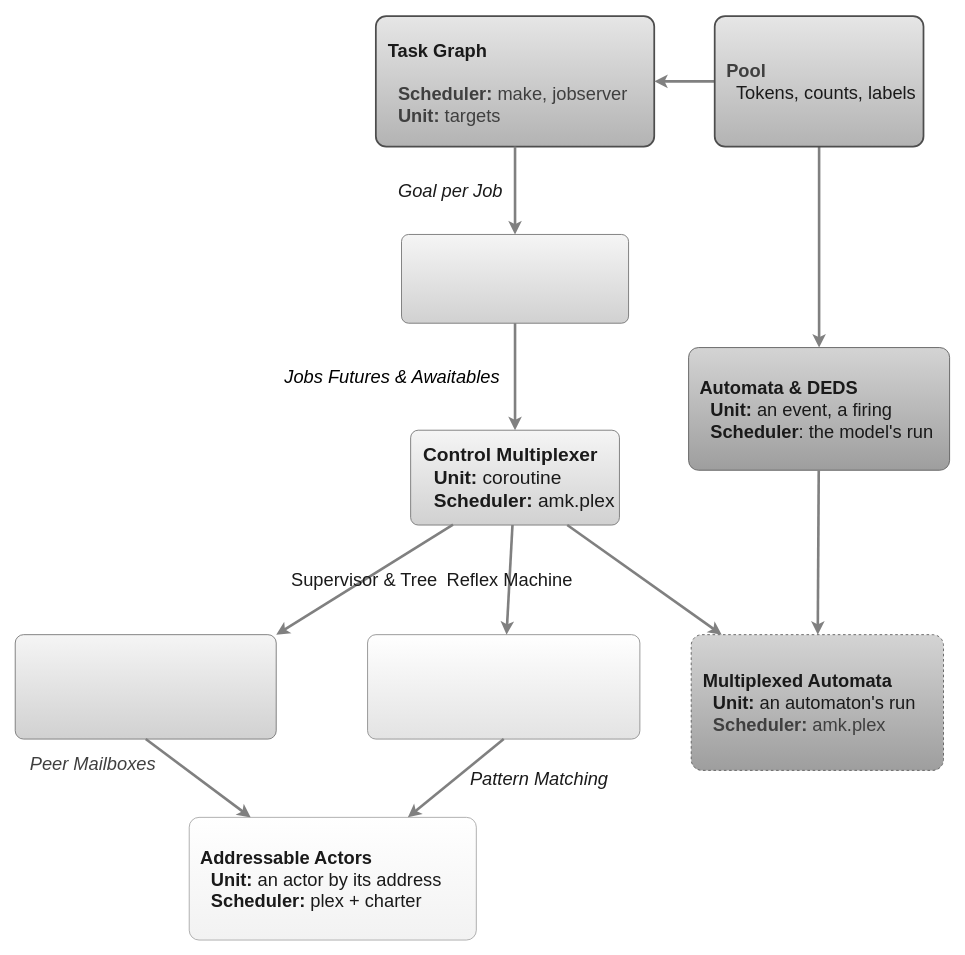
Image size: 965x955. Some labels were removed from this diagram. Each missing label, with the centre of its shape:
"Actor Model Unit: actor + mailbox Scheduler: plex + charter" goes at [145,686].
"Multiprocessing Unit: Zygote fork Scheduler: OS kernel" goes at [515,278].
"Tuplespace Reactor Unit: tuple or row Scheduler: workspace owner" goes at [503,686].
